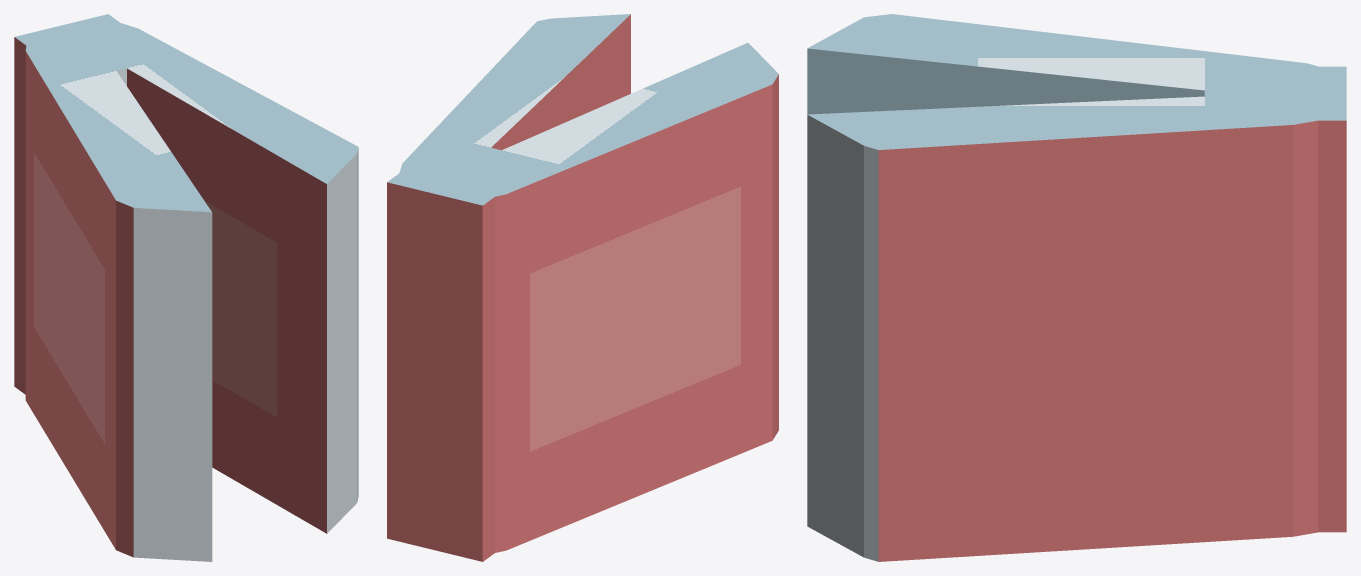
The model's file is Book.glb.
3 renders of one model, left to right at view 1: azimuth 30°, elevation 25°; view 2: azimuth 150°, elevation 25°; view 3: azimuth 270°, elevation 25°, orthographic. The views are drawn at different scales.
Parts seen in each view (by area): view 1: cuboid; view 2: cuboid; view 3: cuboid.
Boxes of the visible parts, <box> form: cuboid: <box>14,14,358,561</box>; cuboid: <box>387,14,778,561</box>; cuboid: <box>807,14,1346,561</box>.
Size of the model in its own units: 0.1772 by 0.25 by 0.2969.
1 material, 1 textured.
